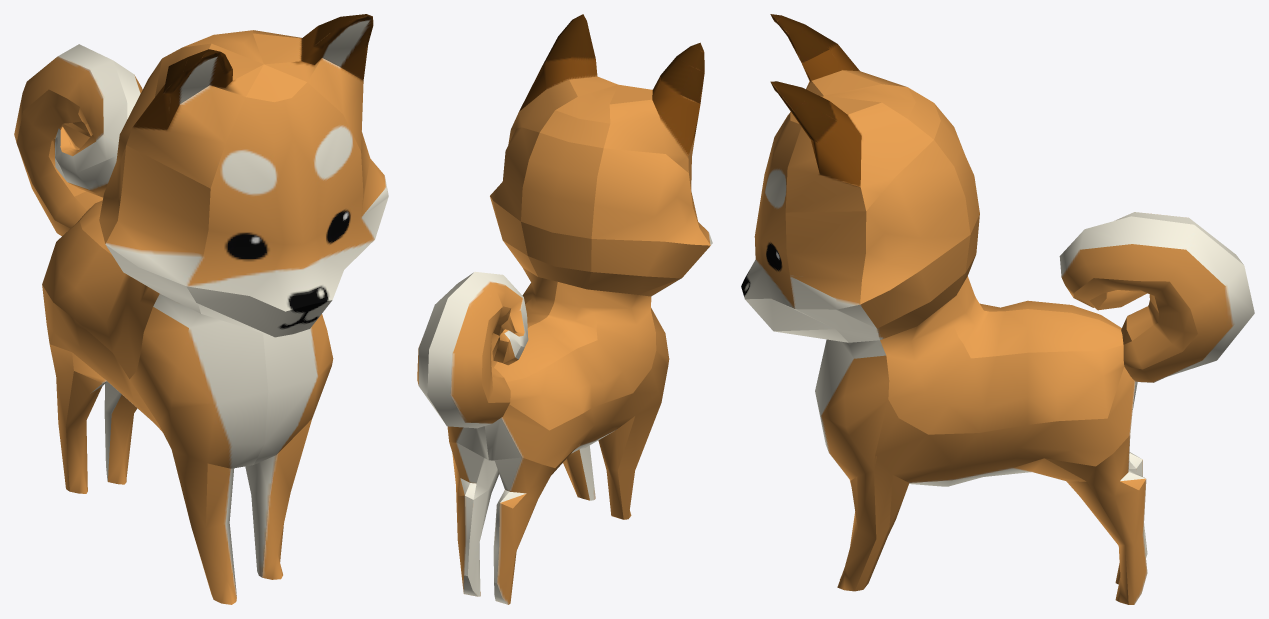
Rendered from tailWagging_frame11.obj.
The picture shows the model from 3 angles, left to right: view 1: azimuth 30°, elevation 25°; view 2: azimuth 150°, elevation 25°; view 3: azimuth 270°, elevation 25°; orthographic projection. The views are drawn at different scales.
Parts seen in each view (by area): view 1: newRigging:BodzL1; view 2: newRigging:BodzL1; view 3: newRigging:BodzL1.
Boxes of the visible parts, <box> form: newRigging:BodzL1: <box>14,14,388,604</box>; newRigging:BodzL1: <box>417,14,712,604</box>; newRigging:BodzL1: <box>741,14,1254,604</box>.
Size of the model in its own units: 3.91 by 7.95 by 6.81.
1 material, 1 textured.
